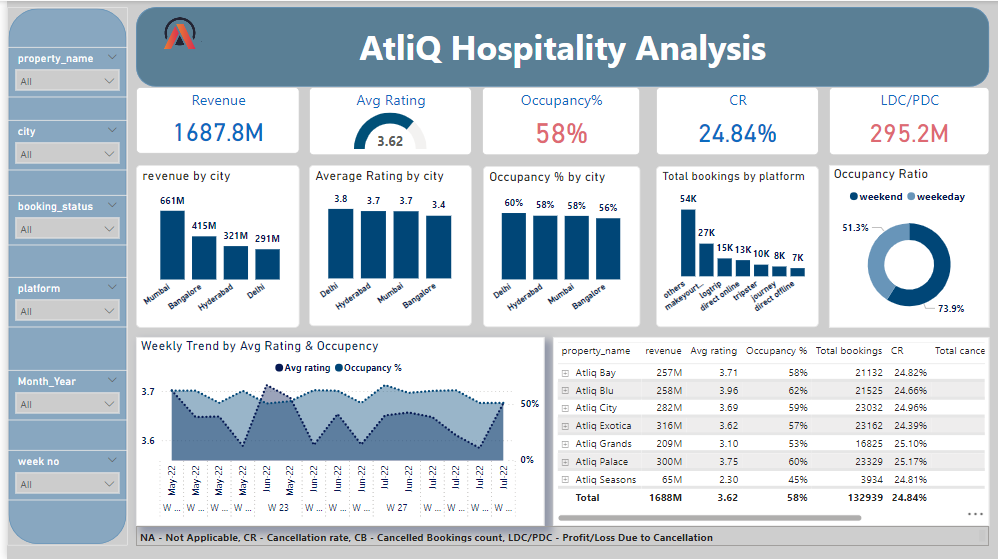

What the dashboard file says about the page in this screenshot:
{"tool":"powerbi","page":{"name":"Page 1","canvas":[1280,720],"ordinal":0},"visuals":[{"type":"shape","box":[166,8,1101,103],"z":0},{"type":"shape","box":[0,8,156,695],"z":1000},{"type":"image","title":"atliq","box":[185.5,11.4,69.9,59.9],"z":2000},{"type":"card","title":"Revenue","fields":{"Values":["Measure Table.revenue"]},"box":[165.8,110.6,211.2,86.5],"z":3000},{"type":"gauge","title":"Avg Rating","fields":{"Y":["Measure Table.Avg rating"]},"box":[389.8,110.6,209.8,87.9],"z":4000},{"type":"card","title":"Occupancy%","fields":{"Values":["Measure Table.Occupancy %"]},"box":[612.3,110.6,204.1,87.9],"z":5000},{"type":"card","title":"CR","fields":{"Values":["Measure Table.CR"]},"box":[837.6,110.6,209.8,87.9],"z":6000},{"type":"card","title":"LDC/PDC","fields":{"Values":["Measure Table.LDC"]},"box":[1060.2,110.6,206.9,87.9],"z":7000},{"type":"clusteredColumnChart","fields":{"Category":["dim_hotels.city"],"Y":["Measure Table.revenue"]},"box":[165.8,211.2,211.2,209.8],"z":8000},{"type":"clusteredColumnChart","title":"Average Rating by city","fields":{"Category":["dim_hotels.city"],"Y":["Measure Table.Avg rating"]},"box":[389.8,211.2,209.8,208.3],"z":9000},{"type":"clusteredColumnChart","fields":{"Category":["dim_hotels.city"],"Y":["Measure Table.Occupancy %"]},"box":[613.7,212.6,202.7,208.3],"z":10000},{"type":"clusteredColumnChart","title":"Total bookings by platform","fields":{"Category":["fact_bookings.booking_platform"],"Y":["Measure Table.Total bookings"]},"box":[837.6,212.6,209.8,208.3],"z":11000},{"type":"donutChart","title":"Occupancy Ratio","fields":{"Category":["dim_date.day_type"],"Y":["Measure Table.Occupancy %"]},"box":[1060.2,211.2,206.9,209.8],"z":12000},{"type":"areaChart","title":"Weekly Trend by Avg Rating & Occupency","fields":{"Category":["dim_date.week no","dim_date.Month_Year"],"Y":["Measure Table.Avg rating"],"Y2":["Measure Table.Occupancy %"]},"box":[165.8,433.7,527.2,243.8],"z":13000},{"type":"pivotTable","fields":{"Rows":["dim_hotels.property_name","dim_hotels.city"],"Values":["Measure Table.revenue","Measure Table.Avg rating","Measure Table.Occupancy %","Measure Table.Total bookings","Measure Table.CR","Measure Table.Total cancelled bookings","Measure Table.Total capacity"]},"box":[704.4,433.7,562.7,243.8],"z":14000},{"type":"slicer","fields":{"Values":["dim_hotels.property_name"]},"box":[0,59.5,155.9,65.2],"z":15000},{"type":"slicer","fields":{"Values":["dim_hotels.city"]},"box":[0,153.1,155.9,65.2],"z":16000},{"type":"slicer","fields":{"Values":["fact_bookings.booking_status"]},"box":[0,250.9,155.9,65.2],"z":17000},{"type":"slicer","fields":{"Values":["fact_bookings.booking_platform"]},"box":[0,355.7,155.9,65.2],"z":18000},{"type":"slicer","fields":{"Values":["dim_date.Month_Year"]},"box":[0,476.2,155.9,65.2],"z":19000},{"type":"slicer","fields":{"Values":["dim_date.week no"]},"box":[0,579.7,155.9,65.2],"z":20000},{"type":"textbox","box":[165.8,677.5,1101.3,25.5],"z":21000}]}

Visuals, with their boxes in screenshot pixels (x1, y1, x2, y2), scaled from the page's 1280x720 canvas onto the 998x559 screenshot:
shape: rect(129, 6, 988, 86)
shape: rect(0, 6, 122, 546)
"atliq" image: rect(145, 9, 199, 55)
"Revenue" card: rect(129, 86, 294, 153)
"Avg Rating" gauge: rect(304, 86, 468, 154)
"Occupancy%" card: rect(477, 86, 637, 154)
"CR" card: rect(653, 86, 817, 154)
"LDC/PDC" card: rect(827, 86, 988, 154)
clusteredColumnChart - dim_hotels.city x Measure Table.revenue: rect(129, 164, 294, 327)
"Average Rating by city" clusteredColumnChart: rect(304, 164, 468, 326)
clusteredColumnChart - dim_hotels.city x Measure Table.Occupancy %: rect(478, 165, 637, 327)
"Total bookings by platform" clusteredColumnChart: rect(653, 165, 817, 327)
"Occupancy Ratio" donutChart: rect(827, 164, 988, 327)
"Weekly Trend by Avg Rating & Occupency" areaChart: rect(129, 337, 540, 526)
pivotTable - dim_hotels.property_name x dim_hotels.city: rect(549, 337, 988, 526)
slicer - dim_hotels.property_name: rect(0, 46, 122, 97)
slicer - dim_hotels.city: rect(0, 119, 122, 169)
slicer - fact_bookings.booking_status: rect(0, 195, 122, 245)
slicer - fact_bookings.booking_platform: rect(0, 276, 122, 327)
slicer - dim_date.Month_Year: rect(0, 370, 122, 420)
slicer - dim_date.week no: rect(0, 450, 122, 501)
textbox: rect(129, 526, 988, 546)
